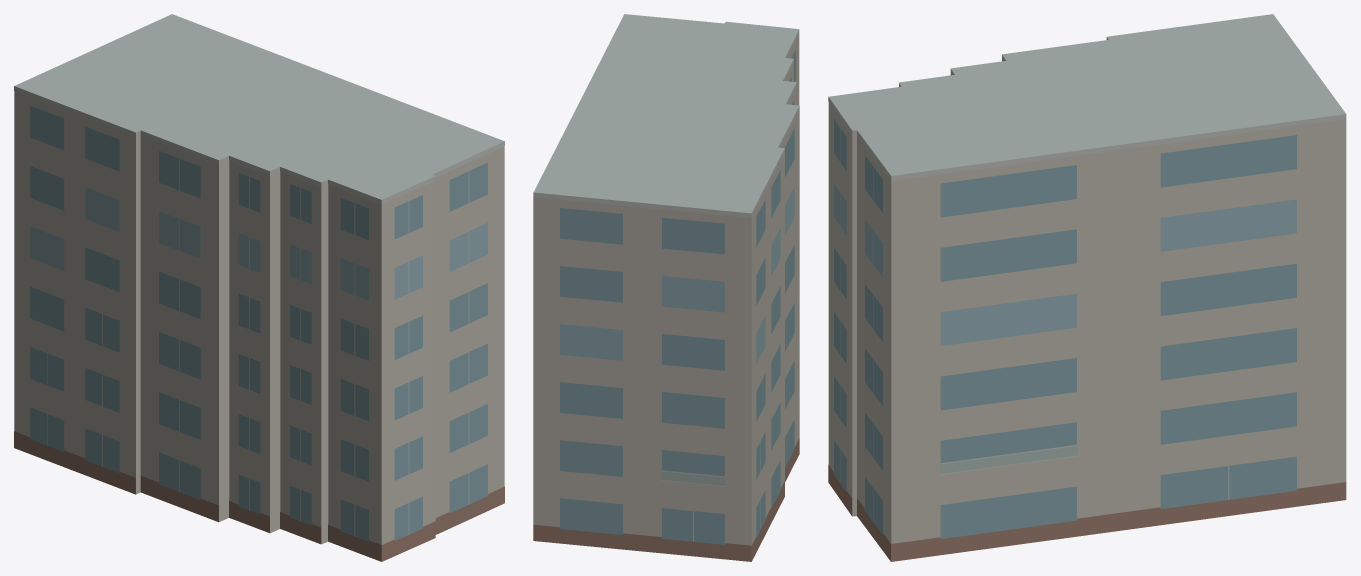
The model's file is survey-upis-32659820.glb.
The picture shows the model from 3 angles, left to right: view 1: azimuth 30°, elevation 25°; view 2: azimuth 150°, elevation 25°; view 3: azimuth 270°, elevation 25°; orthographic projection. The views are drawn at different scales.
Parts seen in each view (by area): view 1: survey-upis-32659820.tmp; view 2: survey-upis-32659820.tmp; view 3: survey-upis-32659820.tmp.
Boxes of the visible parts, x1,y1,x2,y2 form: survey-upis-32659820.tmp: (14, 14, 504, 561); survey-upis-32659820.tmp: (533, 14, 799, 561); survey-upis-32659820.tmp: (828, 14, 1346, 561).
Size of the model in its own units: 16.48 by 18.3 by 22.27.
